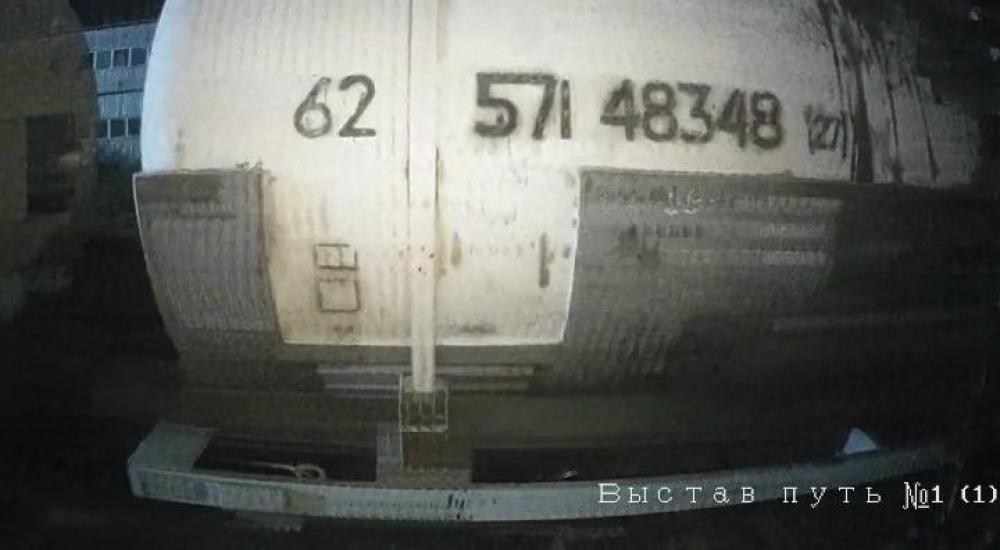Wagon-number: (468, 70, 788, 156)
